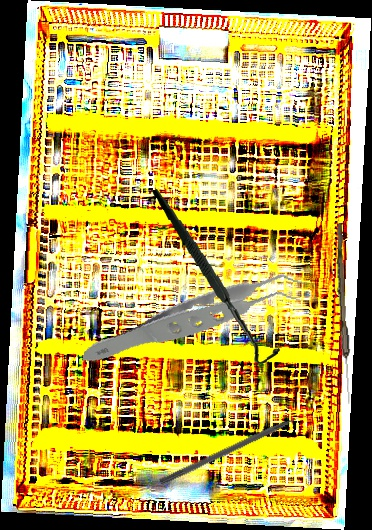Hook Surgical: (151, 179, 283, 372)
Pusher: (158, 407, 316, 488)
Surgical Spoon: (332, 222, 355, 405)
Tissue Forceps: (82, 237, 317, 407)
